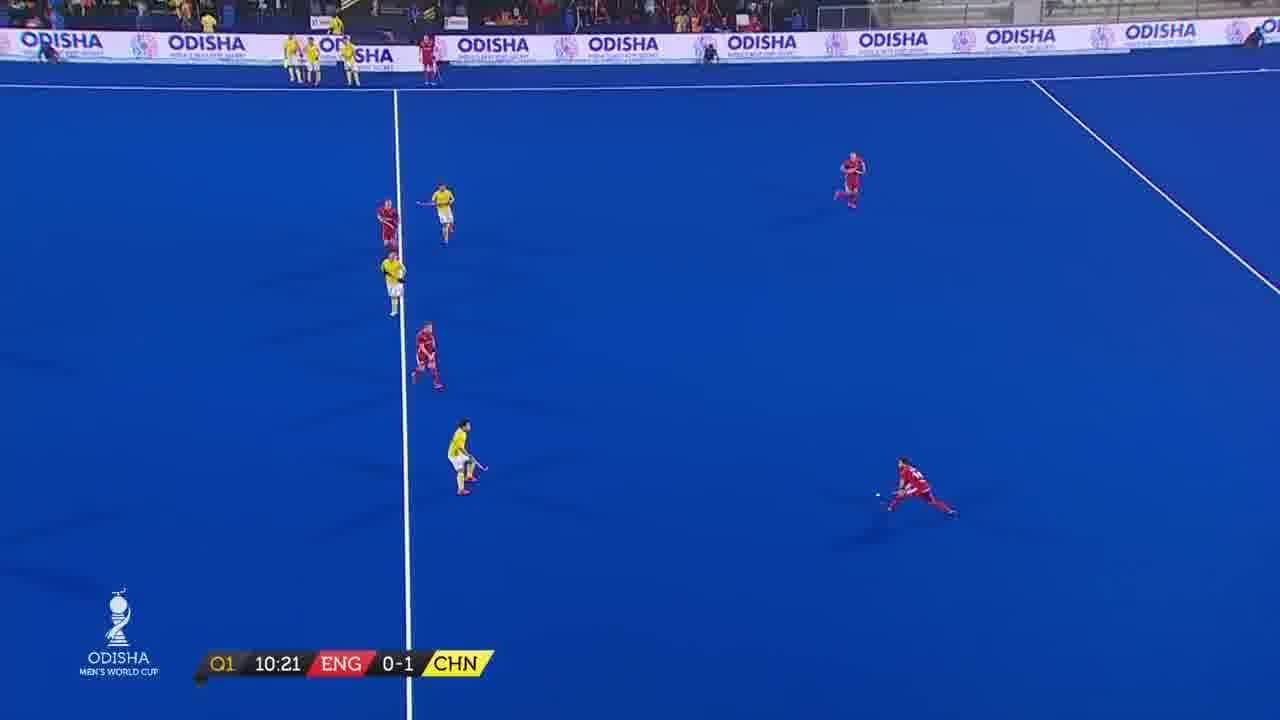ball: (874, 490, 882, 499)
